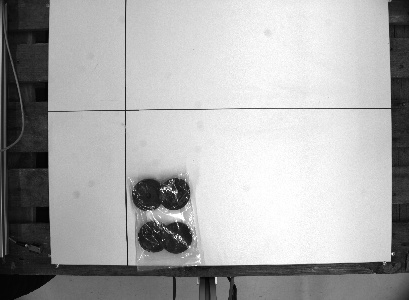t1: (126, 167, 206, 273)
